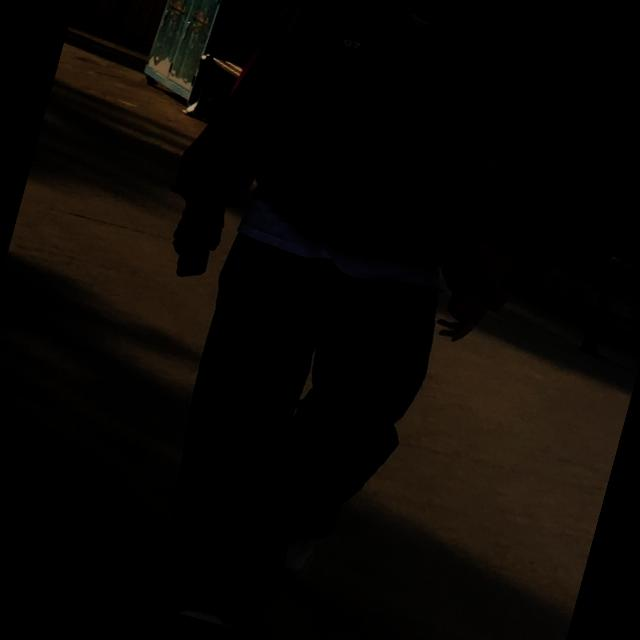hoodies: (146, 0, 572, 353)
slacks: (134, 224, 452, 640)
